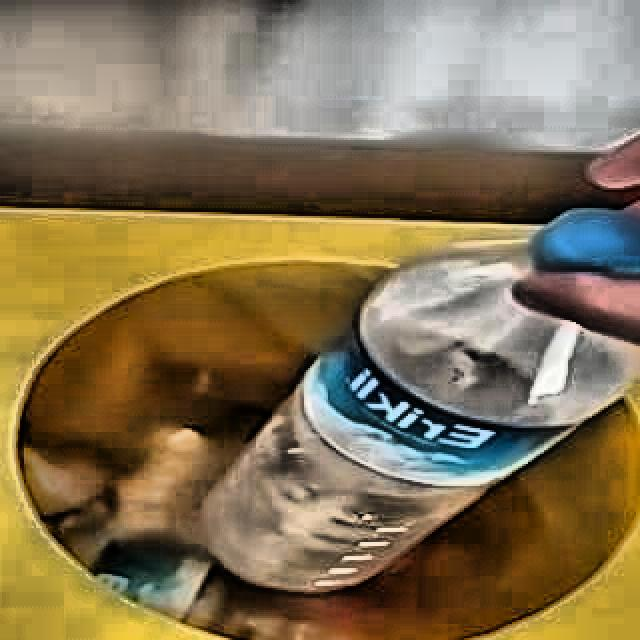plastic: (208, 210, 640, 589)
